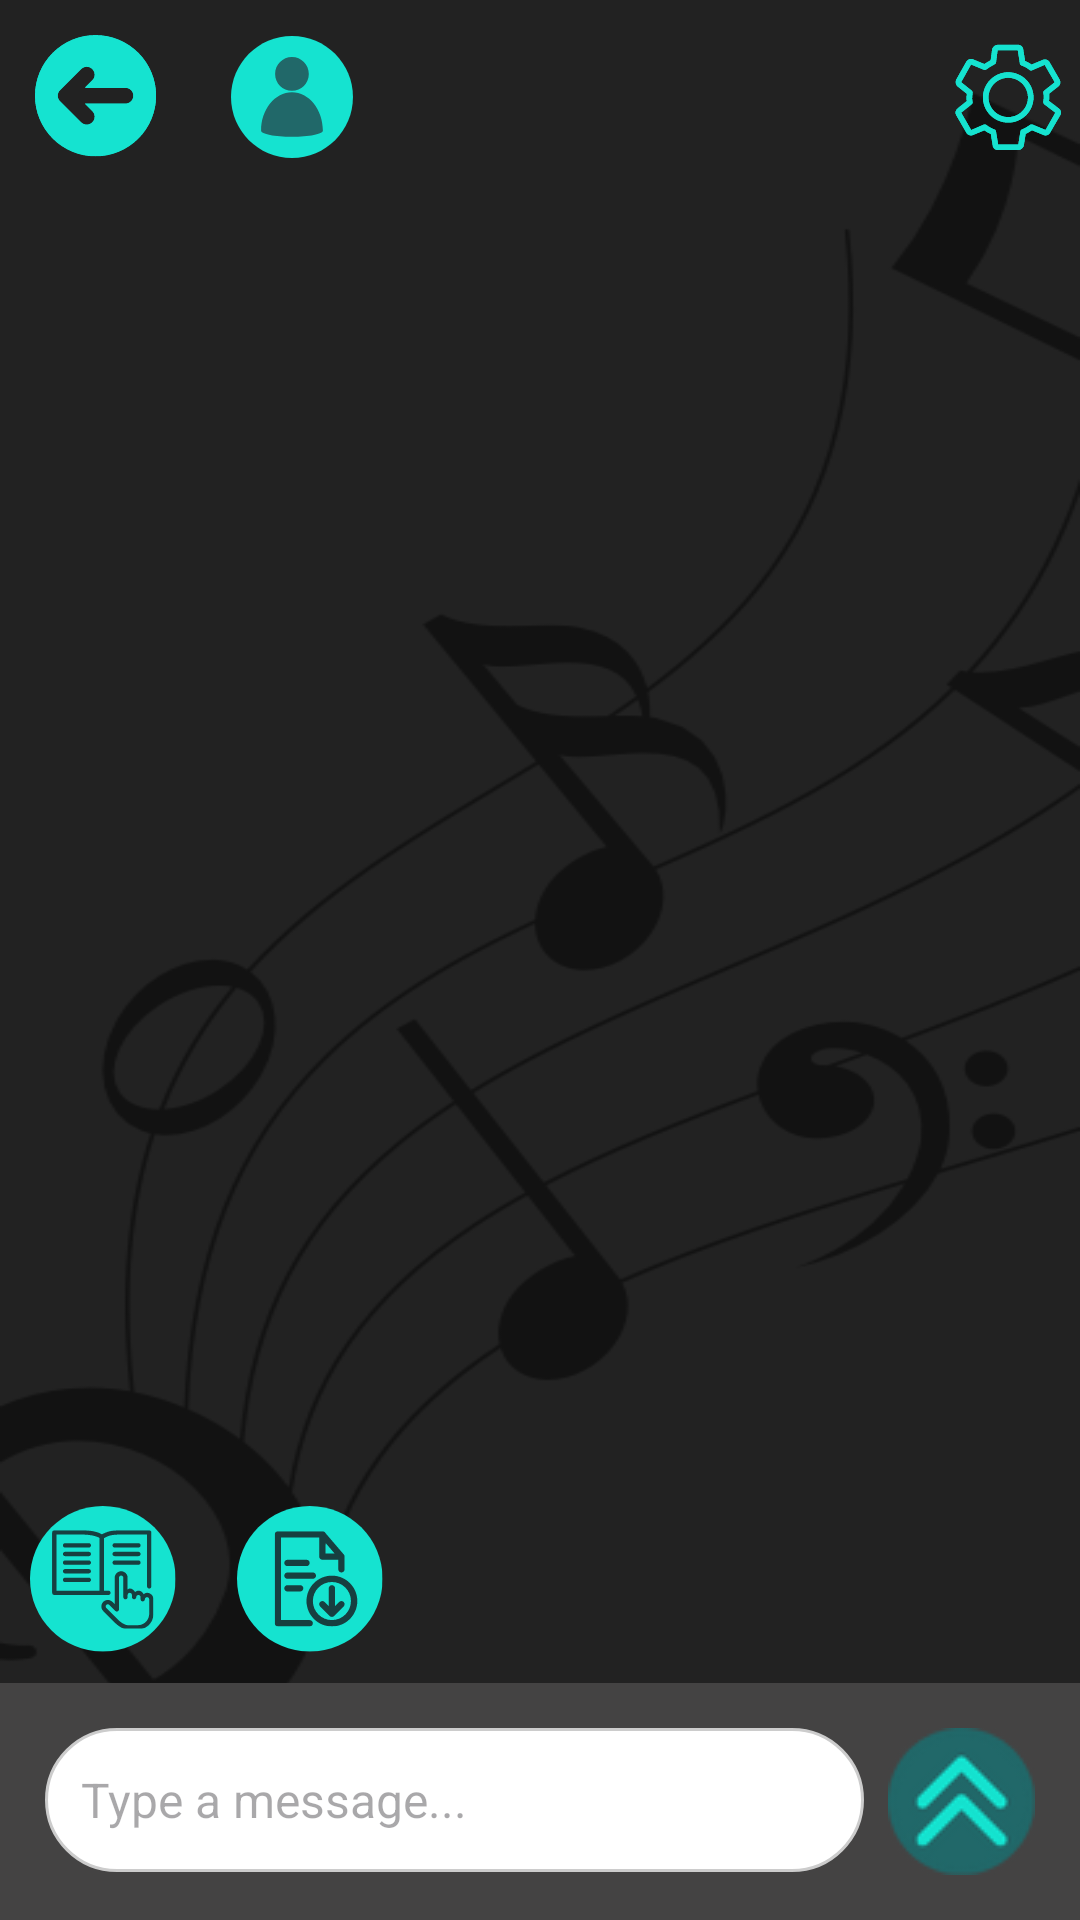

Point at icon controls on the screen. Image size 1080*1920, points as (x,y).
back: (95,96)
chat notes: (103,1579)
profile: (292,97)
save chat note: (310,1579)
send: (961,1801)
settings: (1008,97)
